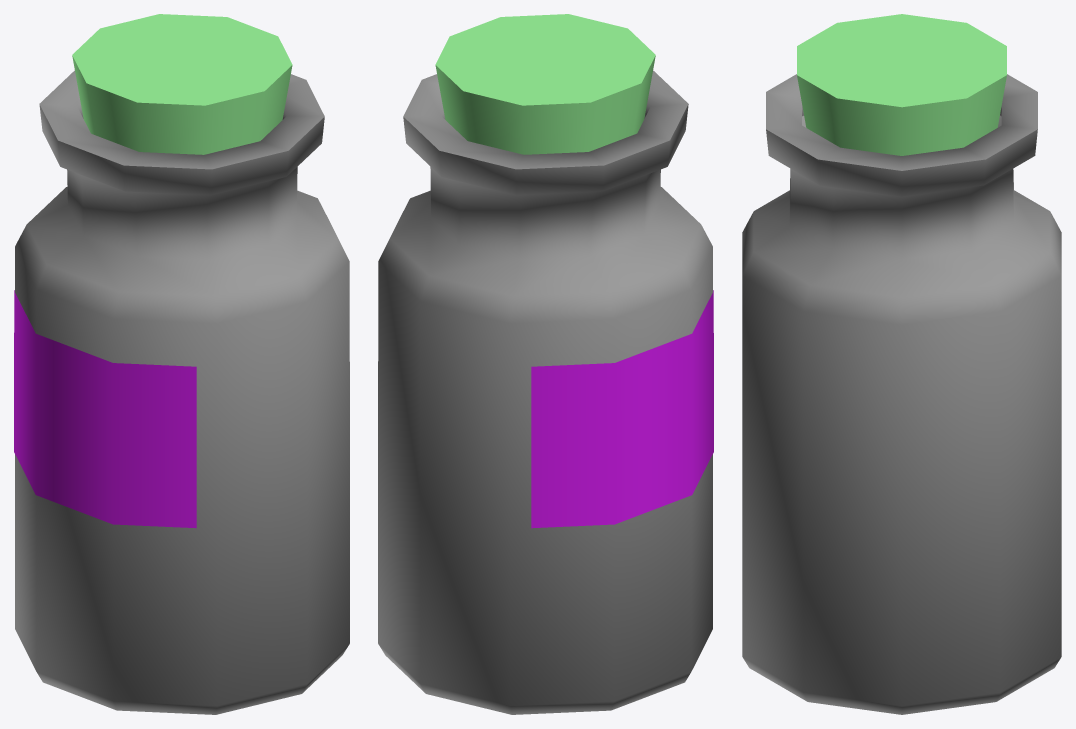
File: Flask01.FBX
3 views of the same model, side by side, from view 1: azimuth 30°, elevation 25°; view 2: azimuth 150°, elevation 25°; view 3: azimuth 270°, elevation 25° (orthographic).
Parts seen in each view (by area): view 1: Flask_01; view 2: Flask_01; view 3: Flask_01.
Part boxes in pixels (x1=…): Flask_01: x1=14, y1=14, x2=349, y2=714; Flask_01: x1=378, y1=14, x2=713, y2=714; Flask_01: x1=742, y1=14, x2=1061, y2=714.
Bounding box in the file's own units: 0.5096 × 0.98 × 0.4833.
